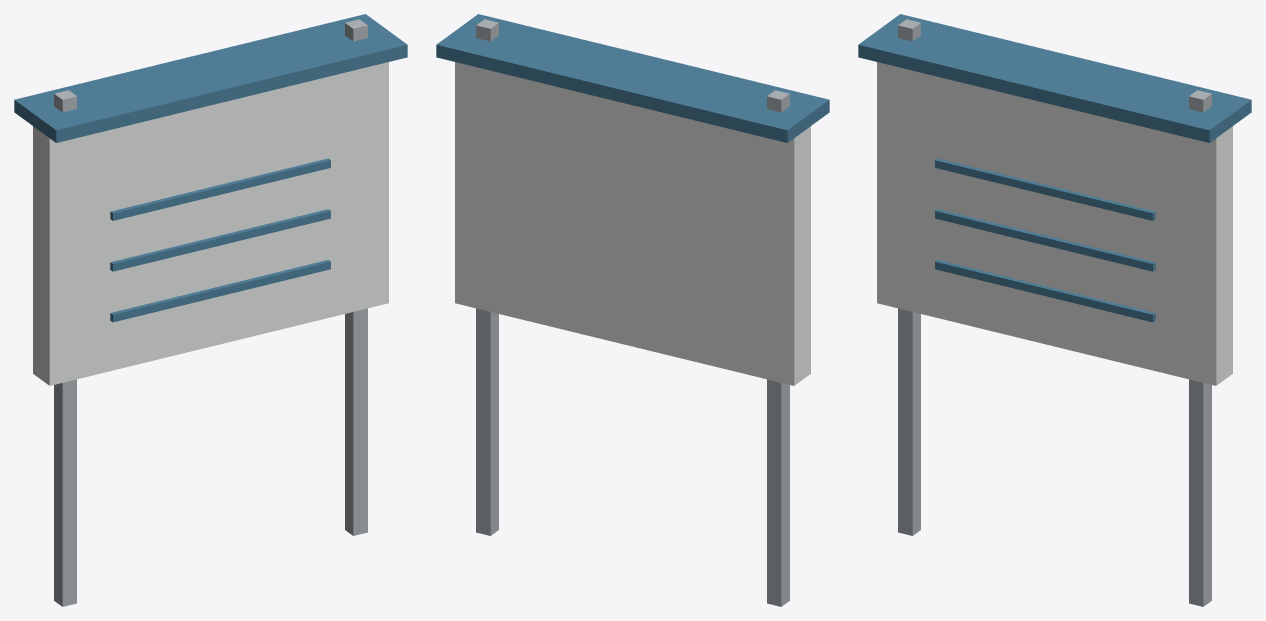
The model's file is powerboat-racing-and-launch-ramp-notice-board-4f05a492__22293.glb.
3 views of the same model, side by side, from view 1: azimuth 30°, elevation 25°; view 2: azimuth 150°, elevation 25°; view 3: azimuth 330°, elevation 25° (orthographic).
Visible parts, largest first — view 1: notice-board; view 2: notice-board; view 3: notice-board.
Part boxes in pixels (<box>): notice-board: <box>14,14,407,606</box>; notice-board: <box>436,14,829,606</box>; notice-board: <box>858,14,1251,606</box>.
Size of the model in its own units: 1.45 by 2 by 0.3.
